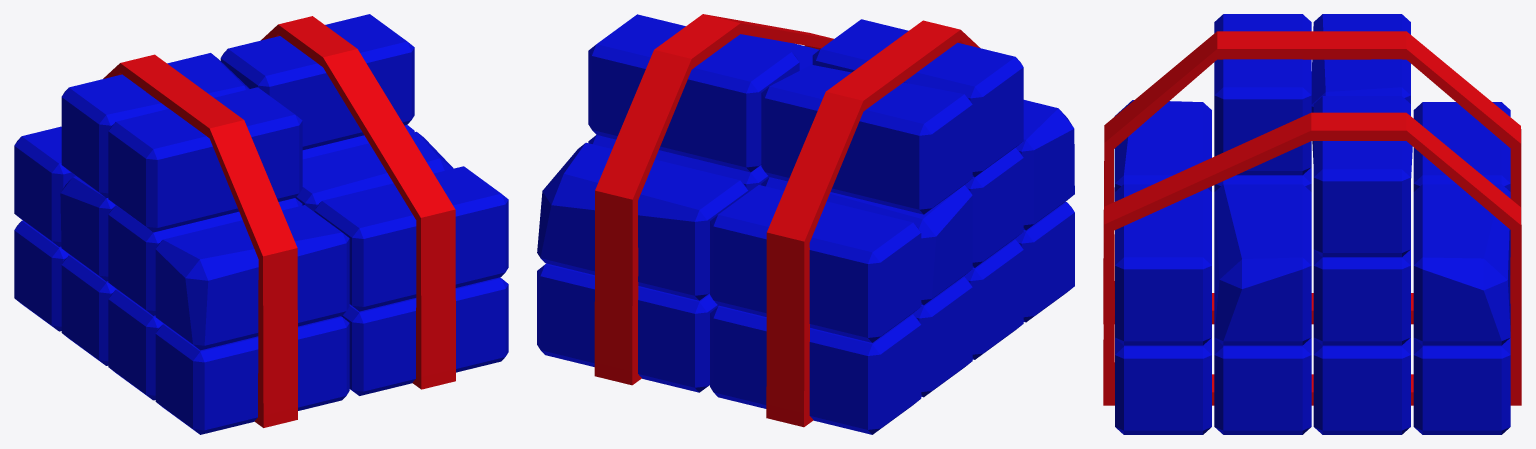
Rendered from SM_Small_QuarryStack1.fbx.
3 renders of one model, left to right at view 1: azimuth 30°, elevation 25°; view 2: azimuth 150°, elevation 25°; view 3: azimuth 270°, elevation 25°, orthographic. The views are drawn at different scales.
Visible parts, largest first — view 1: SM_Small_QuarryStack1; view 2: SM_Small_QuarryStack1; view 3: SM_Small_QuarryStack1.
Boxes of the visible parts, x1,y1,x2,y2 form: SM_Small_QuarryStack1: [14, 14, 508, 434]; SM_Small_QuarryStack1: [537, 14, 1074, 434]; SM_Small_QuarryStack1: [1103, 14, 1521, 434].
Size of the model in its own units: 141 by 108 by 149.
